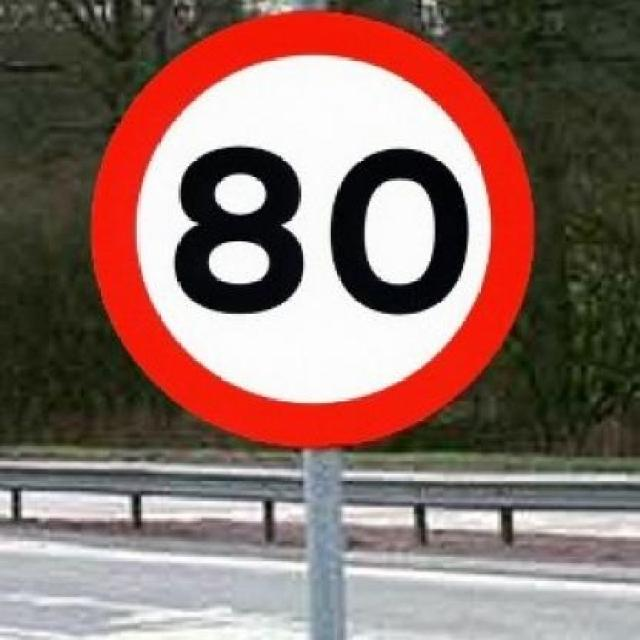forb_speed_over_80: (132, 49, 491, 395)
